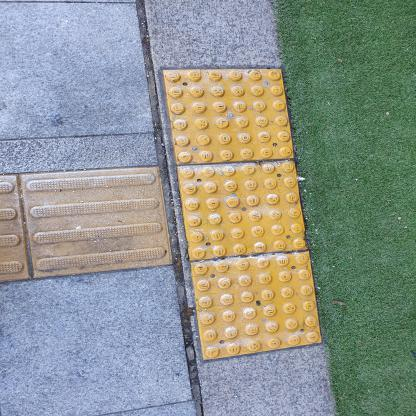podotacti: (0, 58, 332, 369)
